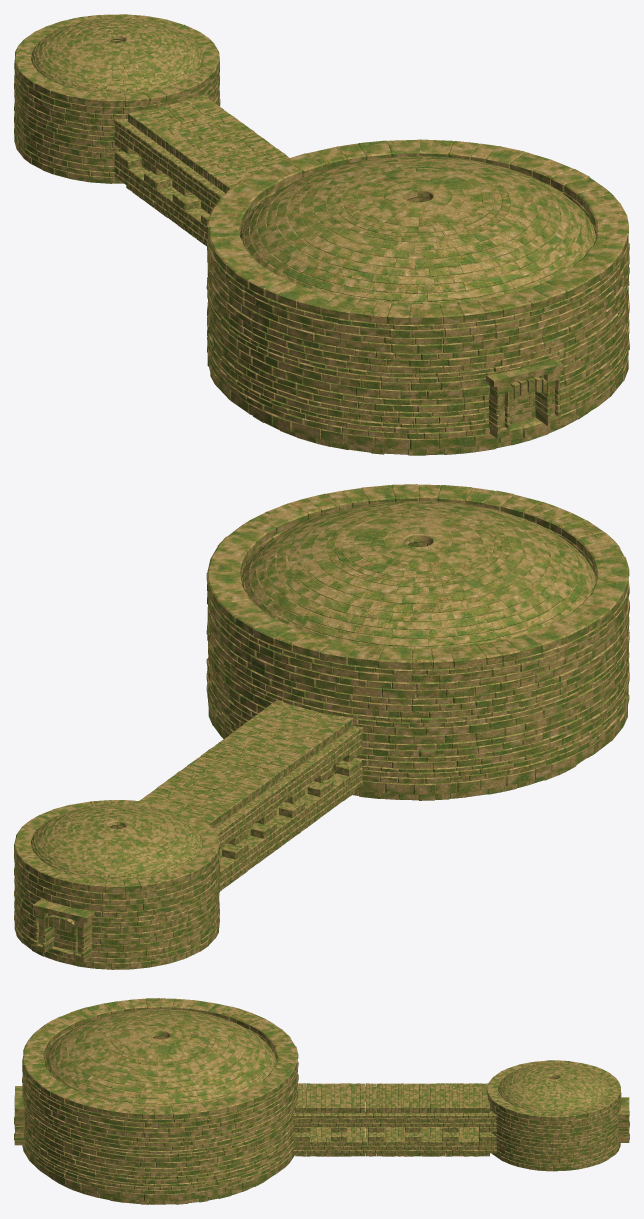
The model's file is FINAL_MAP.fbx.
3 views of the same model, one above another, from view 1: azimuth 30°, elevation 25°; view 2: azimuth 150°, elevation 25°; view 3: azimuth 270°, elevation 25° (orthographic). The views are drawn at different scales.
Visible parts, largest first — view 1: bttlwall, bttlroof, restwall, restroof, bridge.001, arc.1_ra.001, Wall.005, Wall.007, bttlfloor, bttldoor; view 2: bttlwall, bttlroof, restwall, bridge.001, restroof, Wall.005, Wall.007, arc.1_ra, bttlfloor; view 3: bttlwall, bttlroof, restwall, bridge.001, restroof, Wall.006, Wall.008, bridge, bttlfloor, arc.1_ra.001, arc.1_ra.
Part boxes in pixels (x1,y1,x2,y2): bttlwall: (206, 139, 629, 449); bttlroof: (240, 156, 595, 304); restwall: (14, 14, 220, 183); restroof: (31, 18, 202, 93); bridge.001: (128, 95, 289, 192); arc.1_ra.001: (485, 358, 563, 438); Wall.005: (114, 151, 209, 243); Wall.007: (114, 119, 225, 214); bttlfloor: (253, 411, 589, 455); bttldoor: (509, 392, 535, 423); bttlwall: (206, 484, 629, 794); bttlroof: (241, 501, 596, 649); restwall: (14, 800, 220, 969); bridge.001: (139, 700, 353, 828); restroof: (31, 804, 202, 879); Wall.005: (219, 758, 363, 888); Wall.007: (214, 726, 362, 855); arc.1_ra: (33, 899, 94, 962); bttlfloor: (353, 760, 583, 800); bttlwall: (22, 998, 298, 1200); bttlroof: (44, 1009, 276, 1105); restwall: (487, 1060, 621, 1171); bridge.001: (295, 1083, 489, 1113); restroof: (498, 1063, 610, 1112); Wall.006: (293, 1132, 496, 1153); Wall.008: (293, 1111, 496, 1132); bridge: (295, 1126, 489, 1156); bttlfloor: (51, 1178, 269, 1204); arc.1_ra.001: (14, 1086, 24, 1145); arc.1_ra: (618, 1097, 629, 1142).
Bounding box in the file's own units: 5438 × 2537 × 12103.
